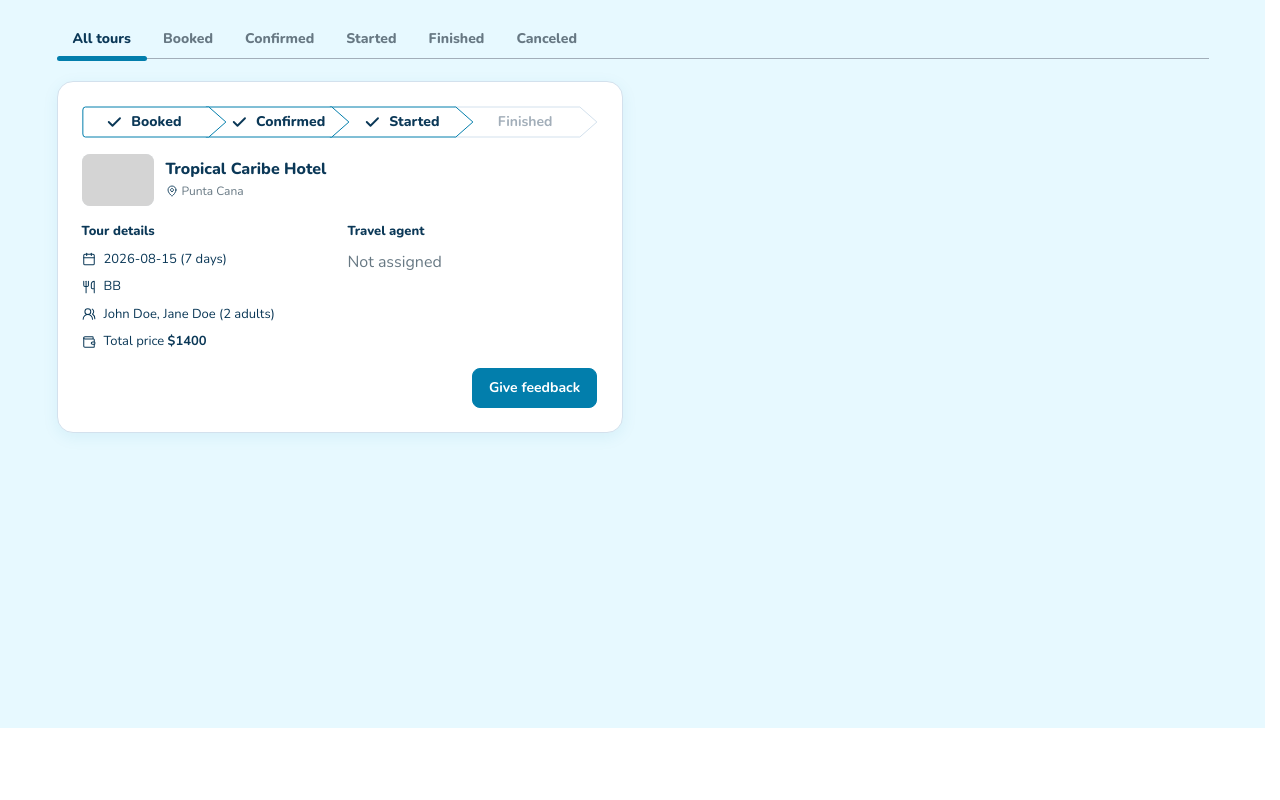
it: MyToursPage Component › opens FeedbackModal when clicking "Give feedback" on a Started or Finished tour booking
The image size is (1280, 800).
Click the button "Give feedback" at [535, 388], box [472,368,598,408]
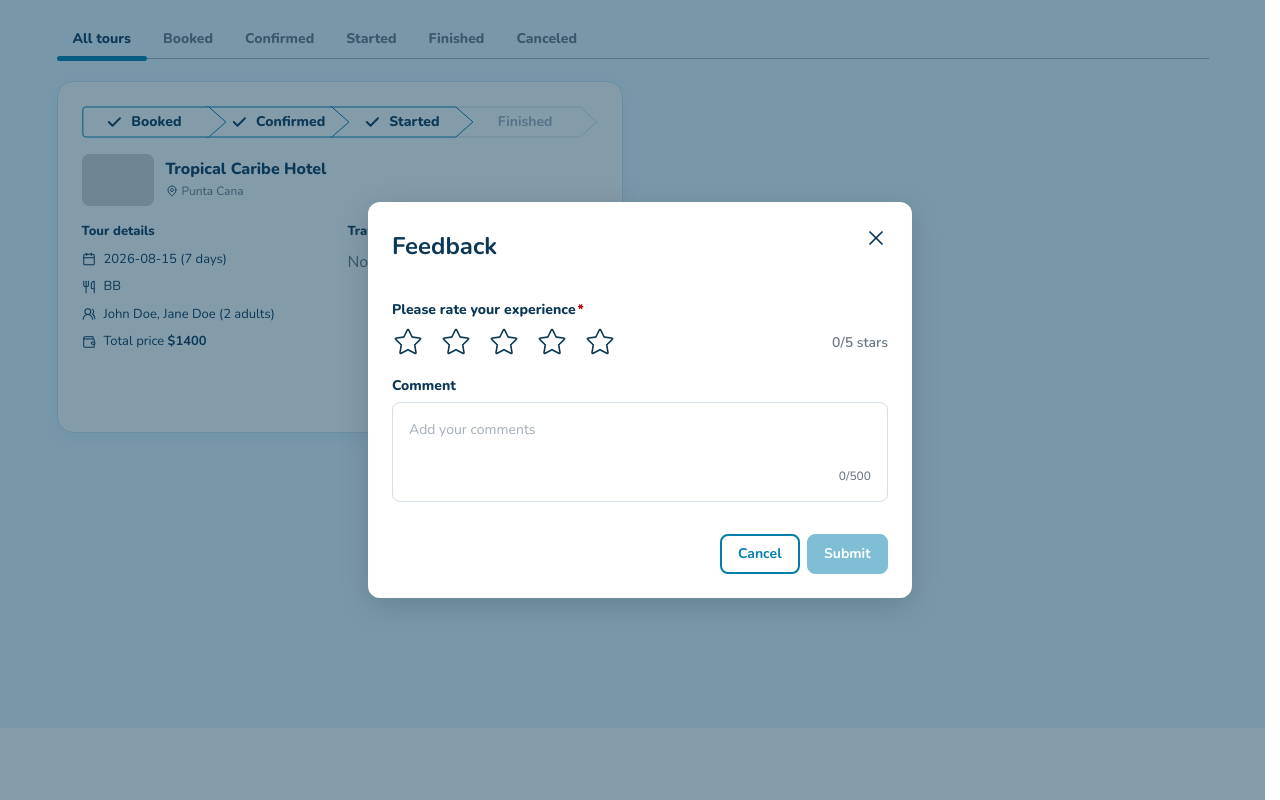
Now the element with test id "feedback-modal-content" is shown, box [392,298,888,574]
Now the label with test id "feedback-rating-label" reads "Please rate your experience *", box [392,300,576,319]
